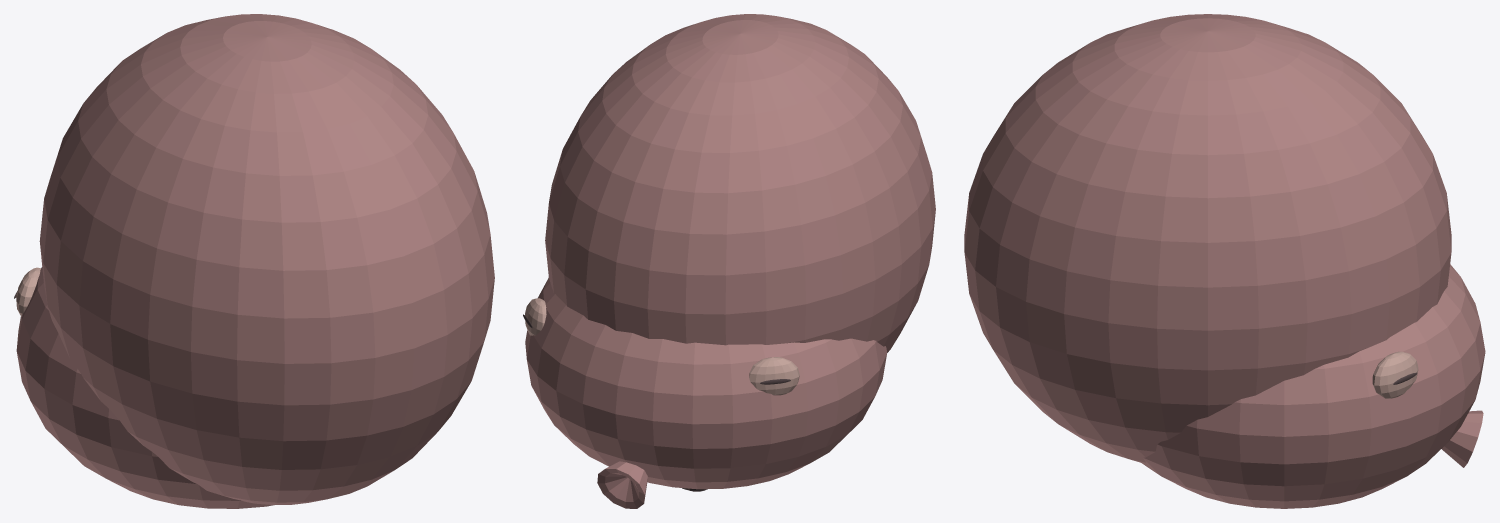
The model's file is kraken_body_01.glb.
The picture shows the model from 3 angles, left to right: view 1: azimuth 30°, elevation 25°; view 2: azimuth 150°, elevation 25°; view 3: azimuth 270°, elevation 25°; orthographic projection. The views are drawn at different scales.
Parts seen in each view (by area): view 1: Mantle, Head, EyeL; view 2: Mantle, Head, Siphon, EyeL, EyeR; view 3: Mantle, Head, EyeR, Siphon.
Boxes of the visible parts, box(x1,y1,x2,y2) form: Mantle: box(39, 14, 494, 505); Head: box(16, 267, 273, 508); EyeL: box(16, 267, 40, 316); Mantle: box(545, 14, 935, 352); Head: box(525, 277, 886, 489); Siphon: box(597, 461, 647, 508); EyeL: box(749, 357, 799, 395); EyeR: box(525, 298, 546, 335); Mantle: box(964, 14, 1451, 463); Head: box(1142, 264, 1485, 508); EyeR: box(1372, 351, 1418, 398); Siphon: box(1441, 410, 1483, 467).
Bounding box in the file's own units: 0.76 × 0.954 × 0.9575.
